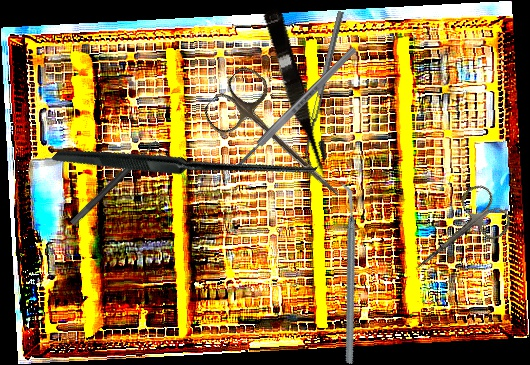Chopper: (275, 181, 419, 365)
Fixation Ring: (69, 138, 167, 234)
Hook Surgical: (51, 13, 334, 296)
Iris Scissors: (198, 61, 364, 220), (397, 179, 517, 291)
Micro Scissor: (259, 6, 332, 182)
Scalpel Handle: (233, 44, 360, 170)
Spatula Surgical: (300, 10, 350, 166)
